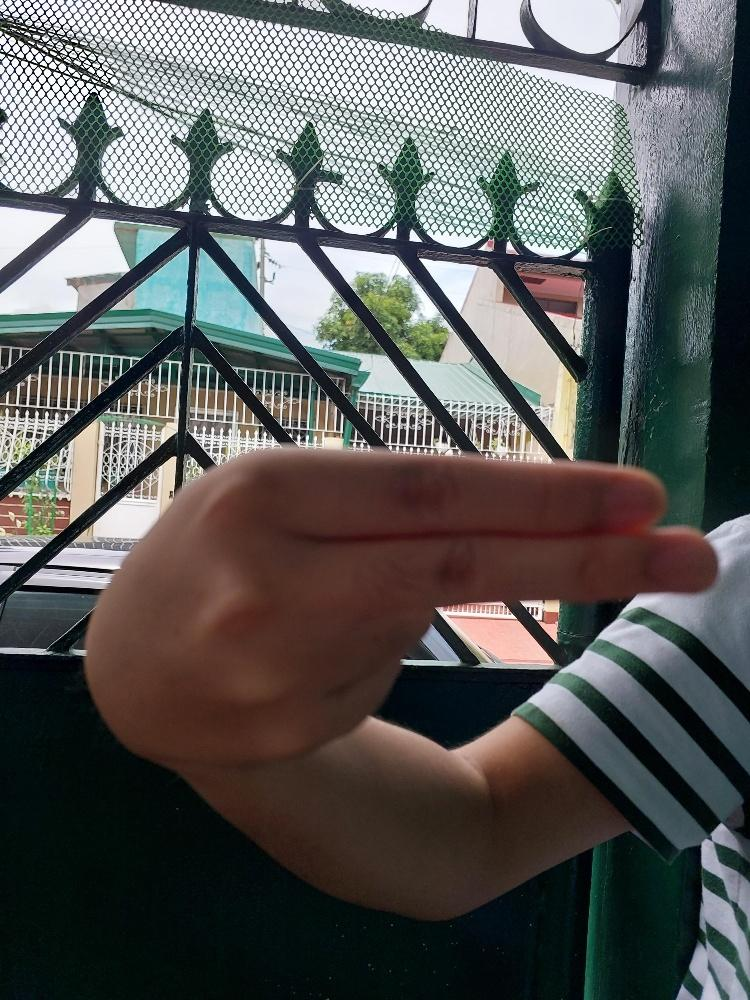h: (79, 439, 720, 776)
